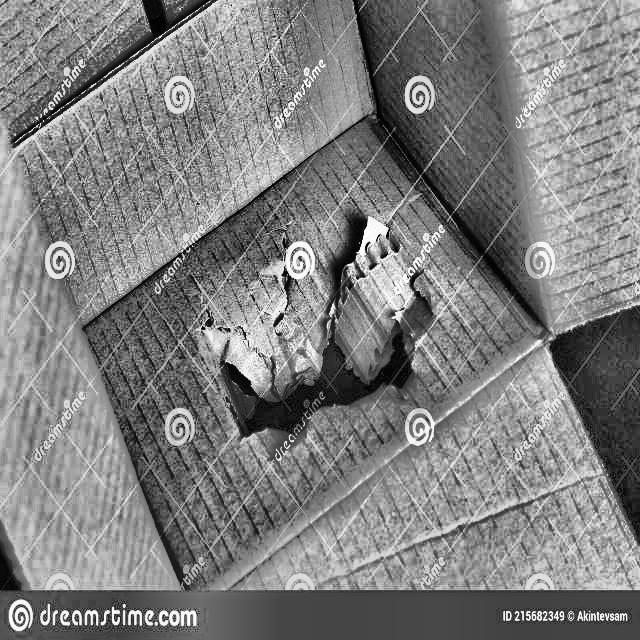box: (0, 0, 640, 594)
hole: (227, 315, 415, 438)
